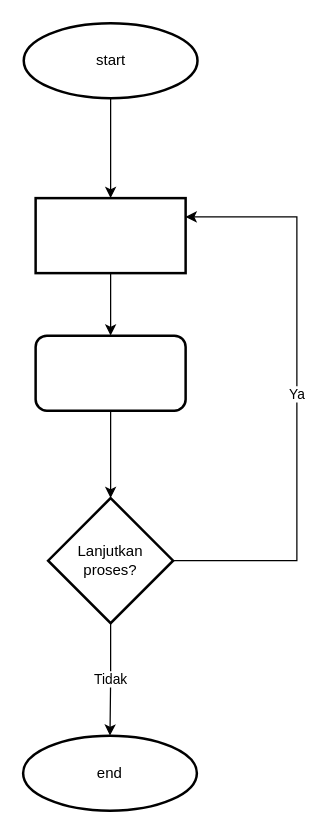
This 329x833 diagram has some shape labels left out. Each missing label, with the centre of its shape:
"proses manipulasi data sesuai tipe data dan tipe proses" goes at point (110, 372).
"proses penarikan input" goes at point (110, 235).
